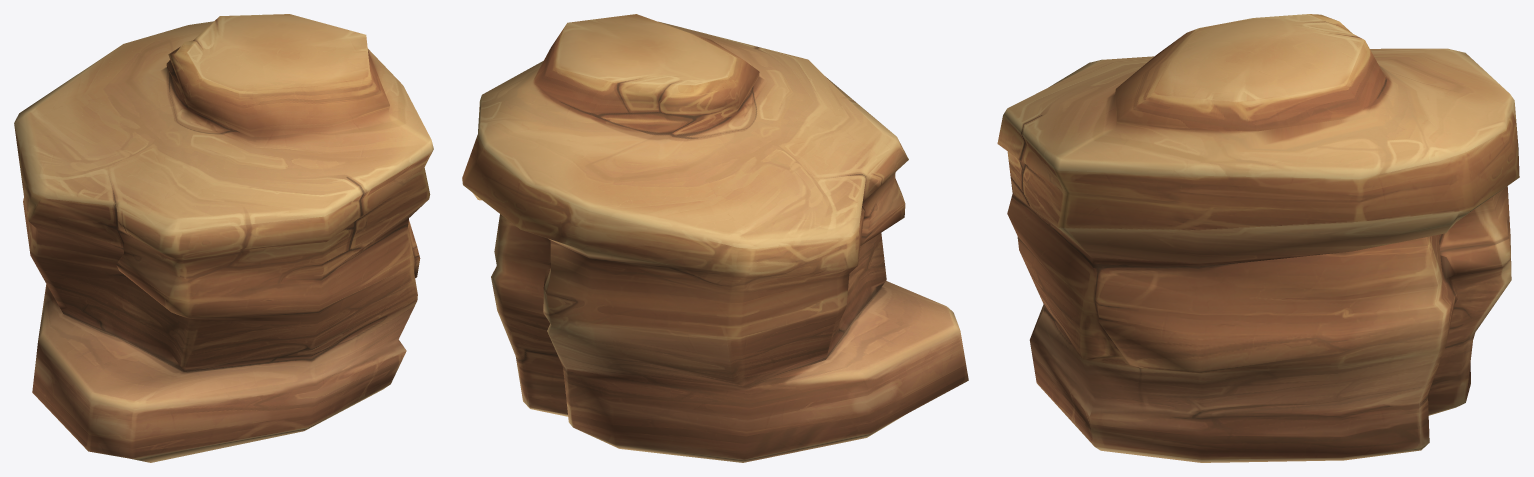
File: DE_Rock_05.fbx
3 renders of one model, left to right at view 1: azimuth 30°, elevation 25°; view 2: azimuth 150°, elevation 25°; view 3: azimuth 270°, elevation 25°, orthographic. The views are drawn at different scales.
Visible parts, largest first — view 1: DE_Rock_05; view 2: DE_Rock_05; view 3: DE_Rock_05.
Boxes of the visible parts, box(x1,y1,x2,y2) form: DE_Rock_05: box(14, 14, 433, 462); DE_Rock_05: box(462, 14, 968, 462); DE_Rock_05: box(997, 14, 1519, 462).
Size of the model in its own units: 11.99 by 9.94 by 12.15.
